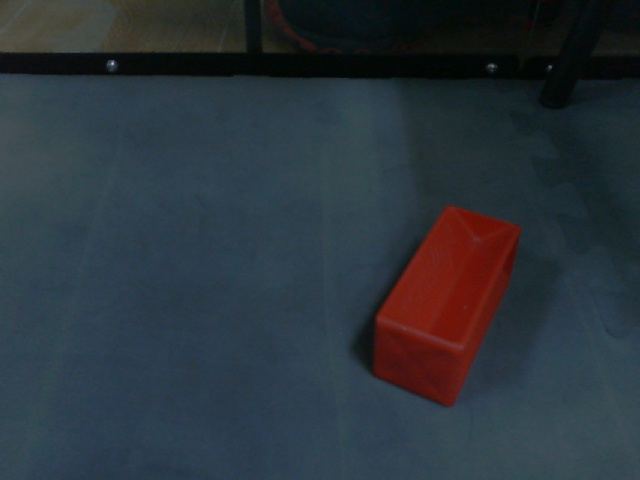RedSample: (367, 202, 526, 413)
